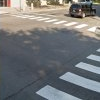crosswalk: (35, 47, 99, 100), (11, 13, 96, 31)
